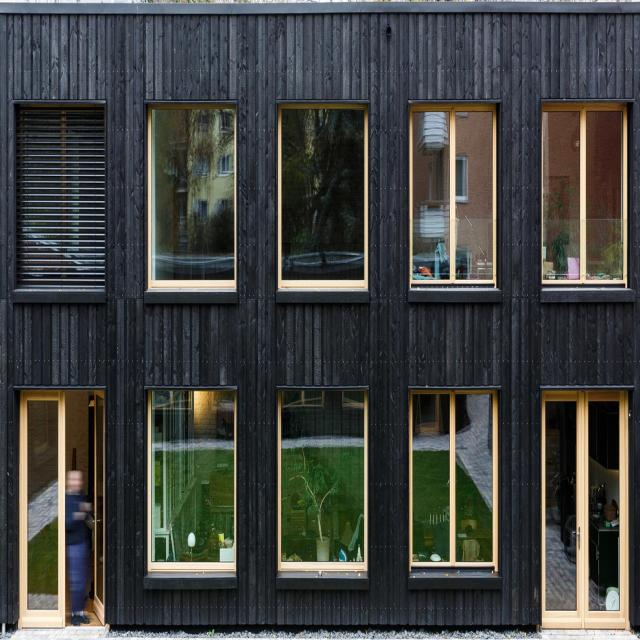door: (542, 383, 629, 629), (19, 382, 104, 624)
window: (149, 104, 239, 292), (146, 386, 236, 570), (18, 107, 107, 291), (280, 102, 367, 290), (409, 100, 497, 284), (279, 390, 366, 570), (411, 387, 497, 568), (543, 101, 627, 283)
